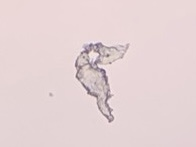microplastic: (74, 42, 131, 123)
